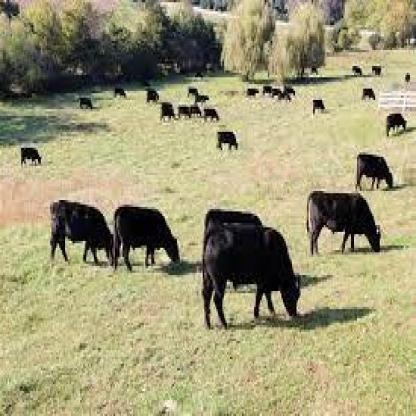cow: (203, 226, 301, 331), (307, 190, 381, 256), (204, 209, 262, 291), (50, 199, 115, 267), (114, 206, 179, 272), (356, 151, 393, 192), (386, 112, 407, 138), (216, 132, 239, 152), (22, 147, 42, 167), (160, 101, 176, 122), (146, 86, 160, 104), (204, 108, 220, 122), (77, 97, 94, 110), (361, 88, 376, 101), (194, 94, 210, 106), (313, 99, 325, 115), (178, 105, 191, 118), (115, 86, 127, 98), (272, 87, 284, 99), (190, 106, 202, 117), (278, 91, 290, 102), (284, 85, 295, 97), (188, 86, 198, 98), (351, 65, 361, 76), (263, 86, 273, 96), (247, 89, 258, 98), (372, 65, 381, 76), (405, 72, 410, 83)
